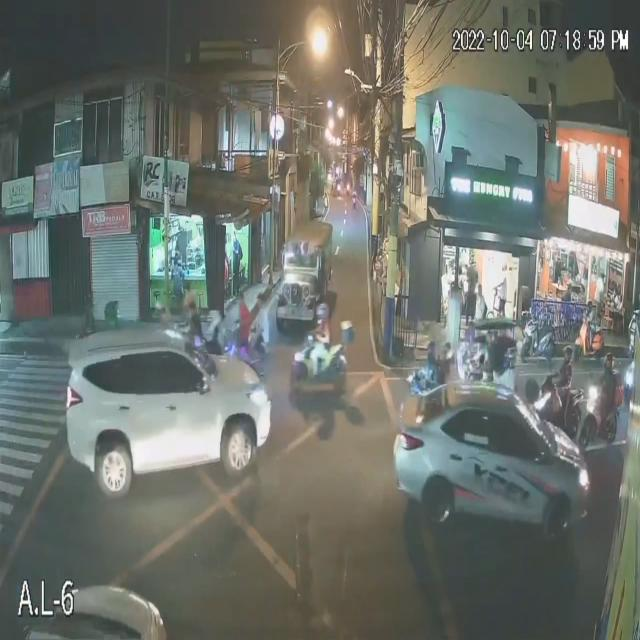Full-Faced: (424, 337, 440, 366), (314, 298, 330, 325), (600, 345, 614, 375), (560, 344, 575, 368)
